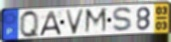8: (136, 6, 152, 32)
A: (38, 10, 63, 37)
M: (84, 7, 109, 35)
Q: (18, 9, 41, 39)
S: (111, 6, 135, 34)
V: (64, 8, 86, 35)
